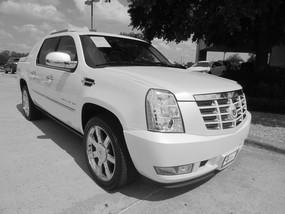car: (11, 28, 256, 196)
